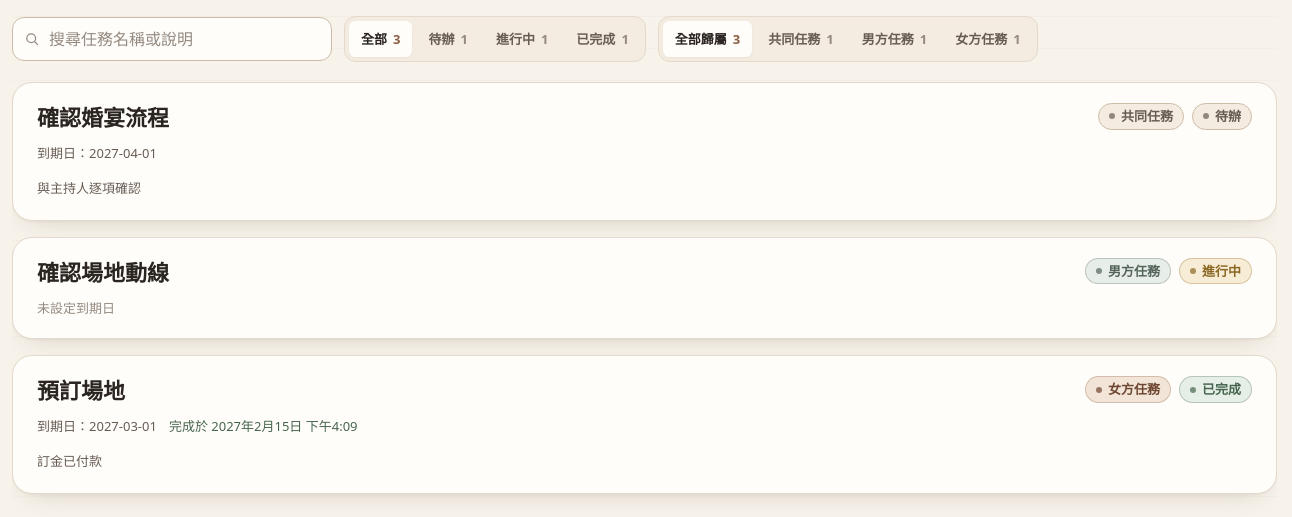
it: WeddingTaskList › narrows the list by keyword and by status without losing the others
The image size is (1292, 517).
Type "動線" into the search field labelled "搜尋任務".
click(172, 39); type("動線")  # box [12,17,332,61]
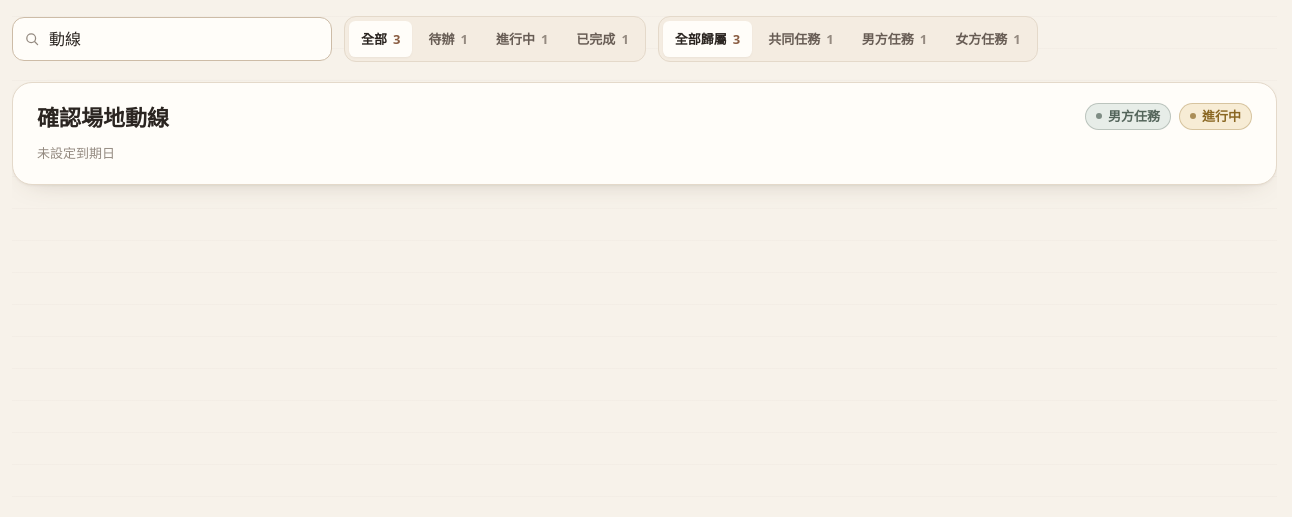
Check: the heading "確認場地動線" is shown, box [37,106,169,131]
Check: the heading "預訂場地" is gone
Clear the search field named "搜尋任務" at (172, 39), box [12,17,332,61]
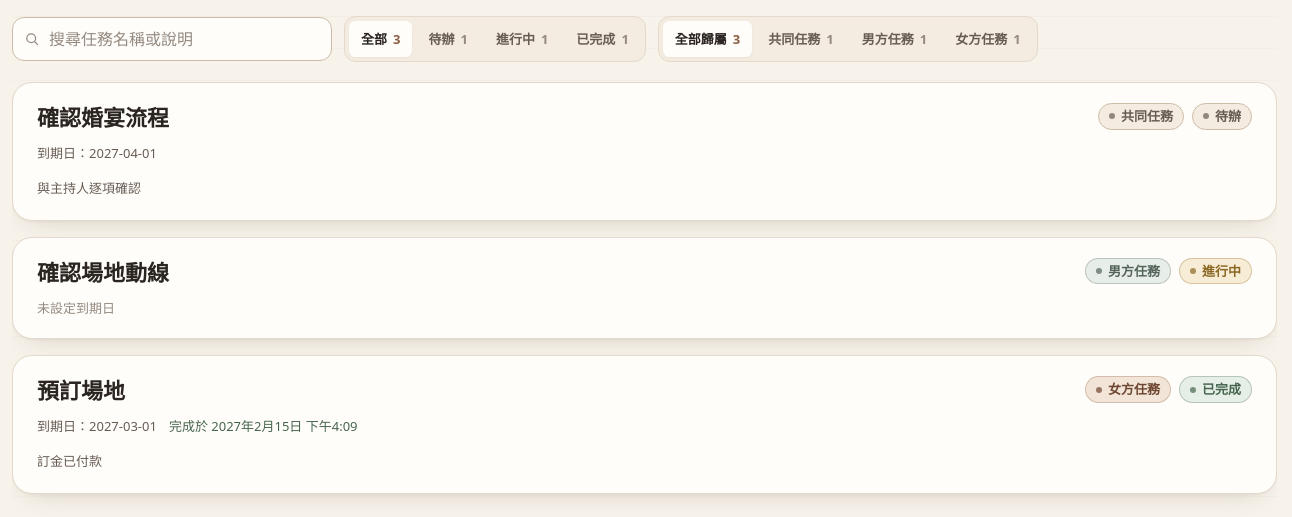
Click the radio button labelled "已完成 1".
click(603, 39)  # box [564,21,641,57]
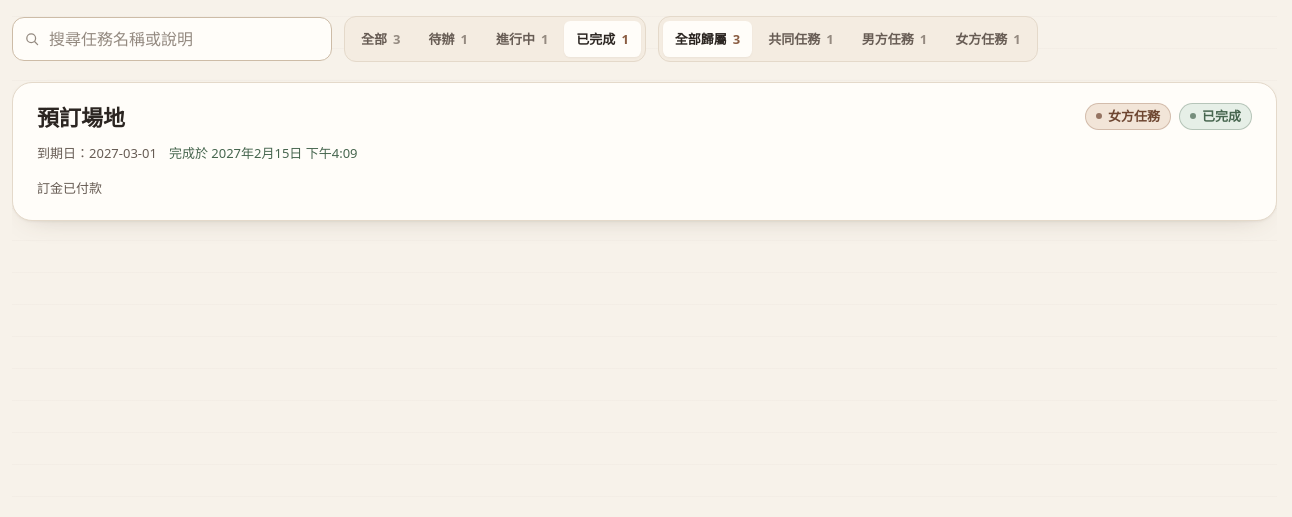
Check: the heading "預訂場地" is shown, box [37,106,125,131]
Check: the heading "確認婚宴流程" is gone
